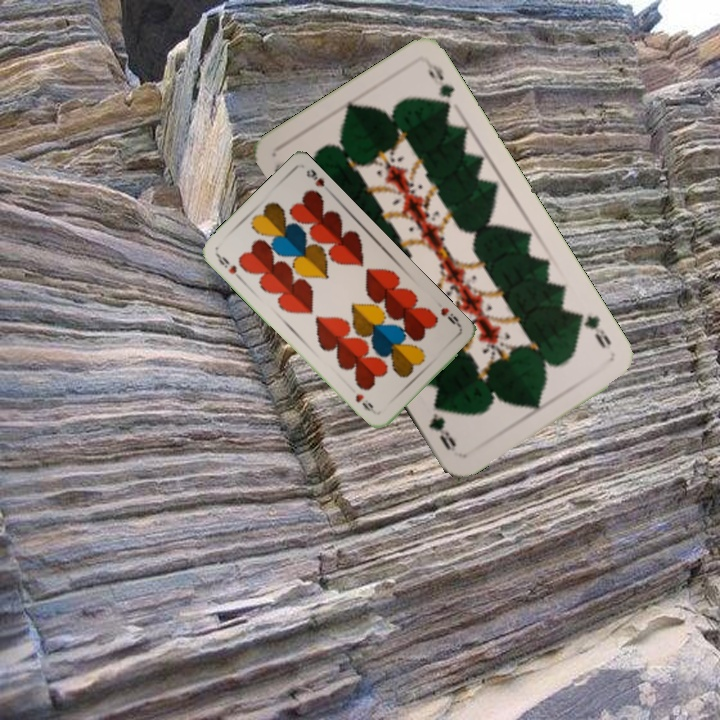G9: (571, 309, 614, 351)
H9: (212, 250, 245, 283), (436, 303, 464, 333)
